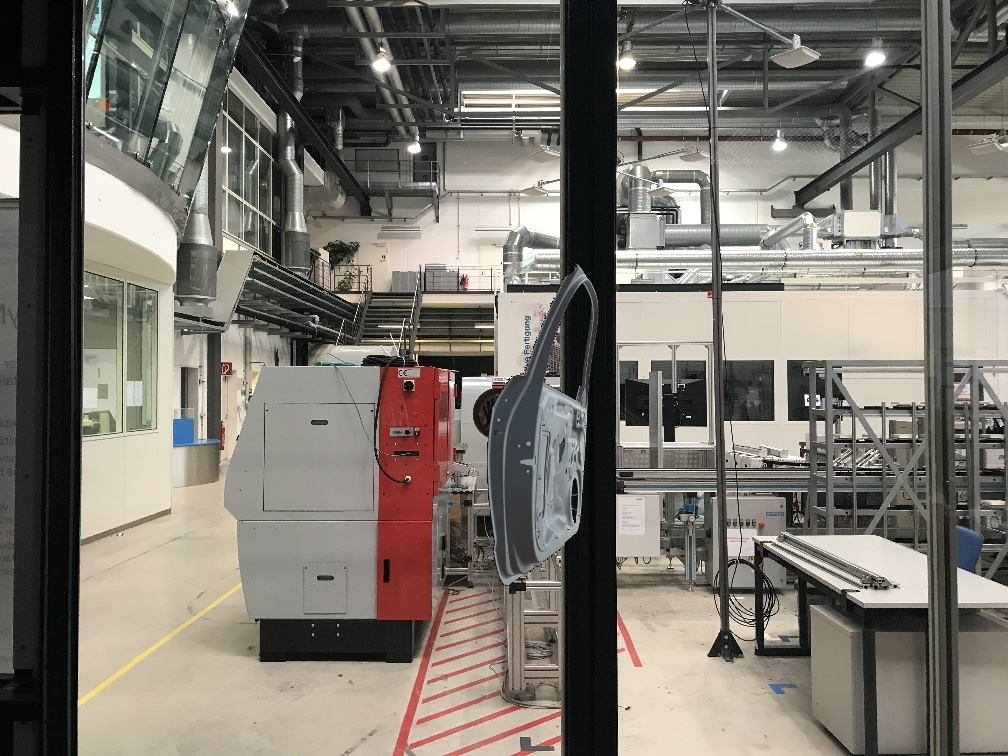car_door: (487, 262, 599, 585)
